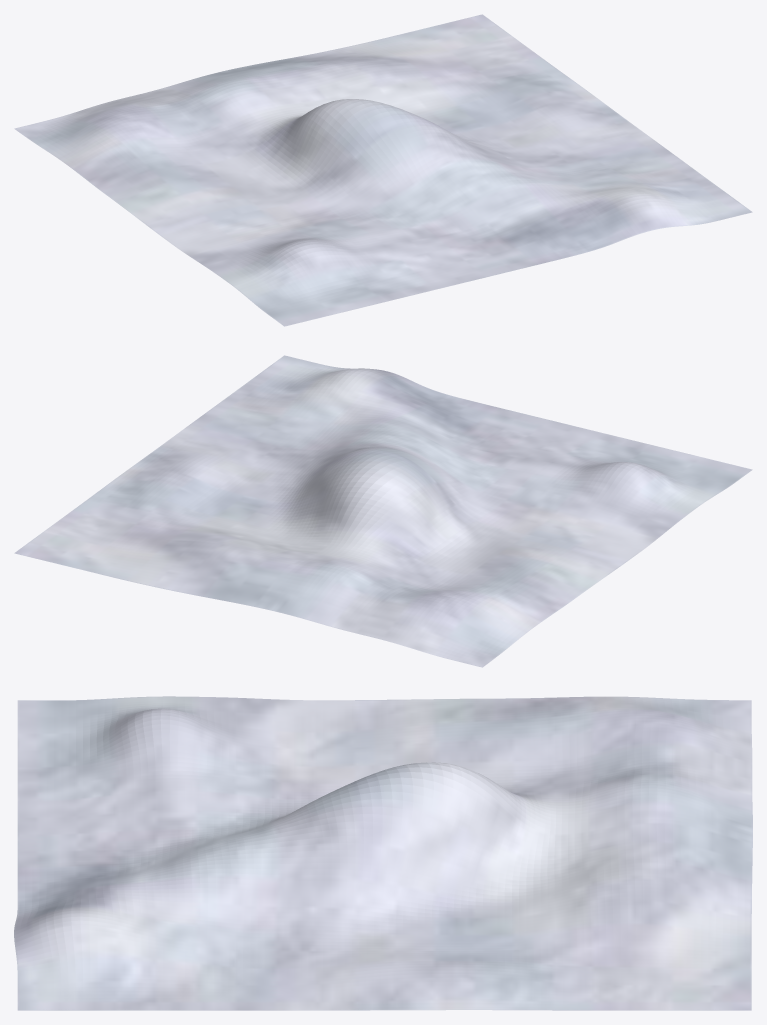
Rendered from snow_ter.glb.
3 renders of one model, top to bottom at view 1: azimuth 30°, elevation 25°; view 2: azimuth 150°, elevation 25°; view 3: azimuth 270°, elevation 25°, orthographic. The views are drawn at different scales.
Visible parts, largest first — view 1: Plane; view 2: Plane; view 3: Plane.
Part boxes in pixels (left/top/right/bottom): Plane: left=14, top=14, right=752, bottom=326; Plane: left=14, top=355, right=752, bottom=667; Plane: left=14, top=696, right=752, bottom=1010.
Bounding box in the file's own units: 19.97 × 2.36 × 20.09.
Materials: 1 (1 with a texture image).
